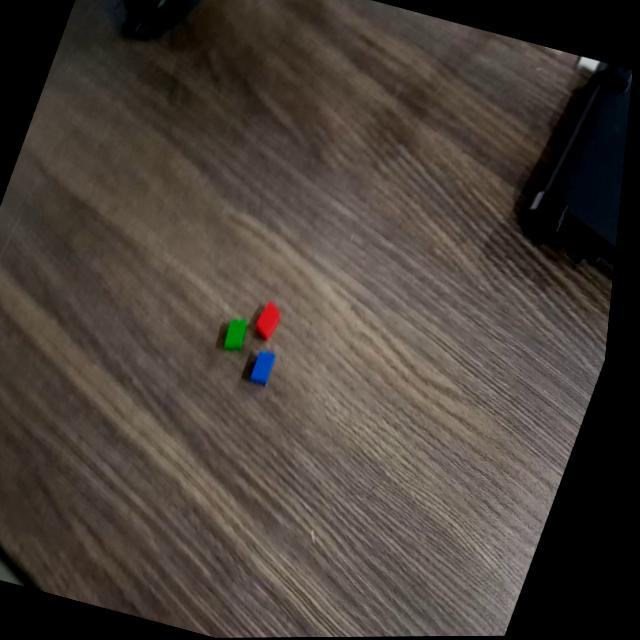cube: (255, 297, 294, 344), (221, 310, 260, 356), (251, 345, 290, 391)
